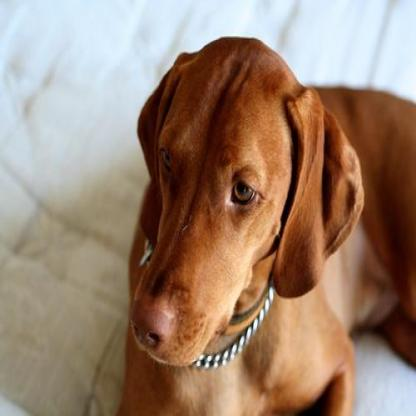vizsla: (116, 31, 414, 414)
